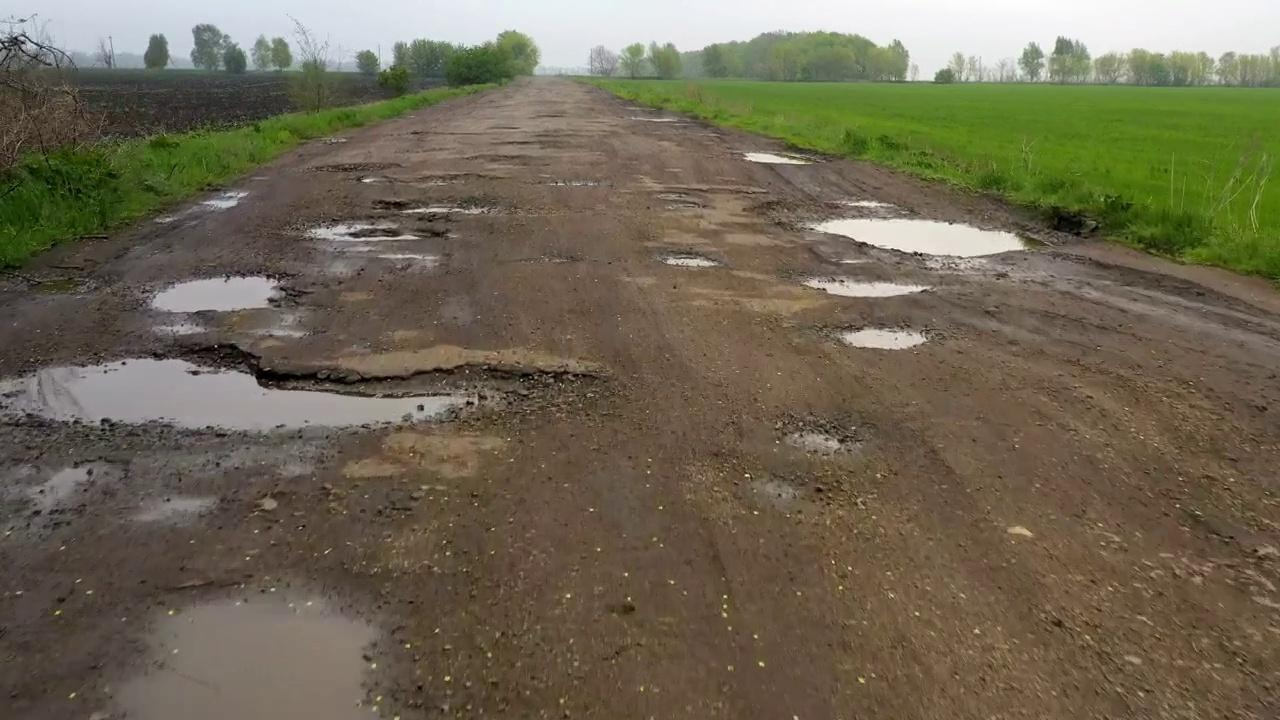bache: (18, 345, 573, 430), (810, 218, 1025, 257), (151, 276, 279, 312), (295, 214, 441, 241), (780, 416, 869, 455), (372, 196, 505, 216), (800, 277, 933, 296), (841, 325, 930, 348), (741, 152, 821, 165), (315, 162, 401, 172), (663, 253, 720, 266), (662, 201, 701, 209), (659, 191, 688, 198)
